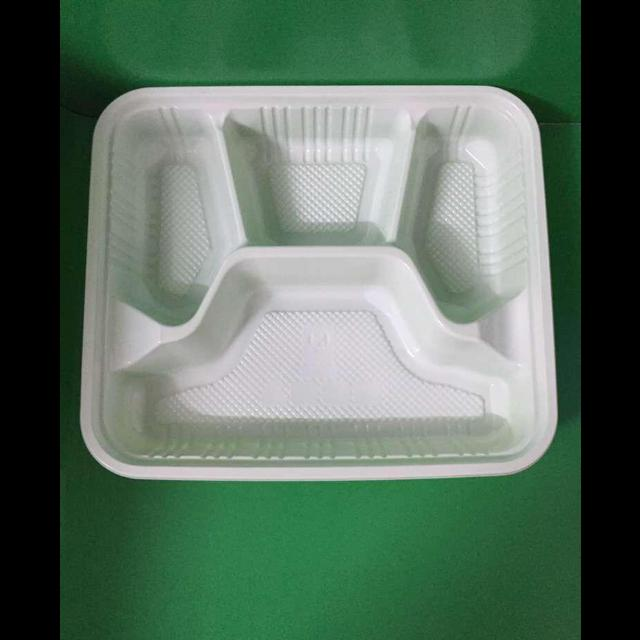plastic_box: (76, 80, 560, 482)
